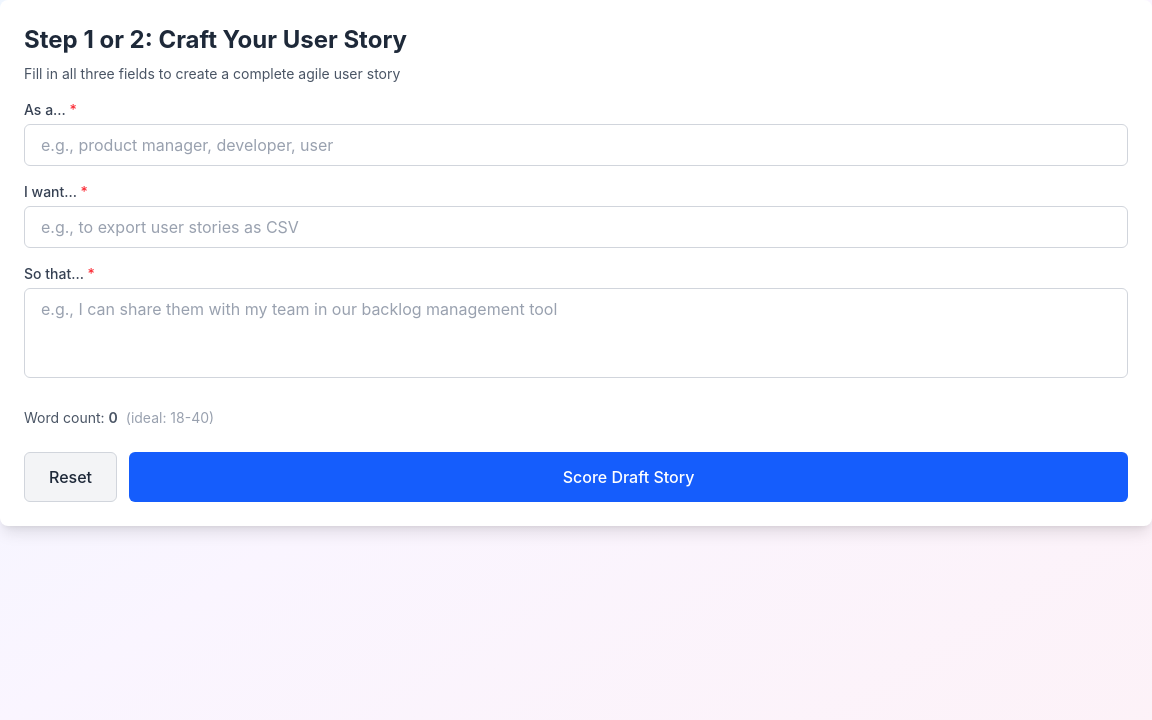
Test: StoryForm › should reset all fields when Reset button is clicked
The width and height of the screenshot is (1152, 720).
Type "developer" into the field labelled "As a... *".
click(576, 145); type("developer")  # box [24, 124, 1128, 166]
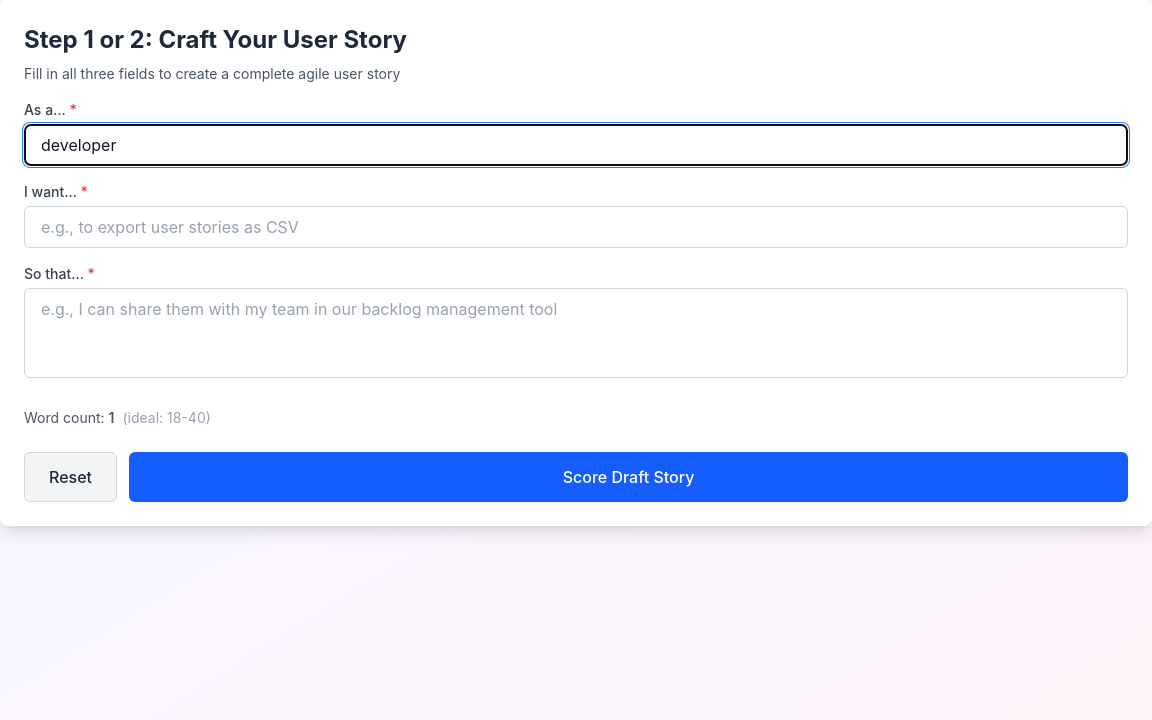
Type "to write code" into the field labelled "I want... *".
click(576, 227); type("to write code")  # box [24, 206, 1128, 248]
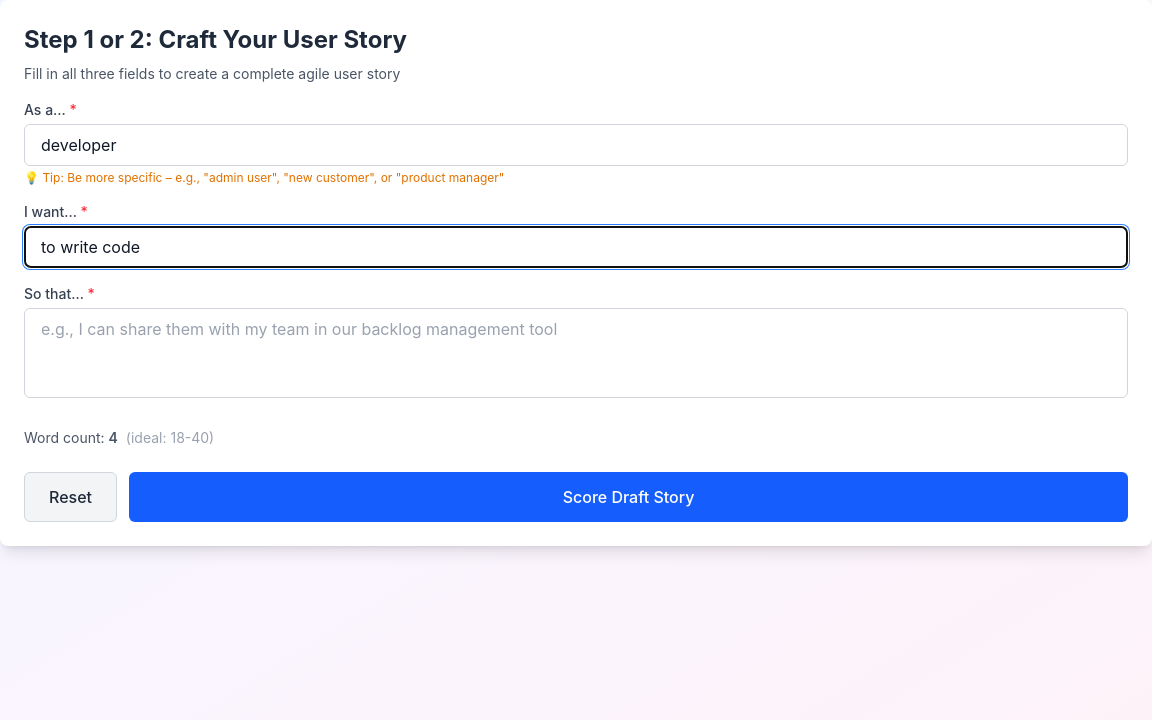
Type "to deliver value" into the text box labelled "So that... *".
click(576, 353); type("to deliver value")  # box [24, 308, 1128, 398]
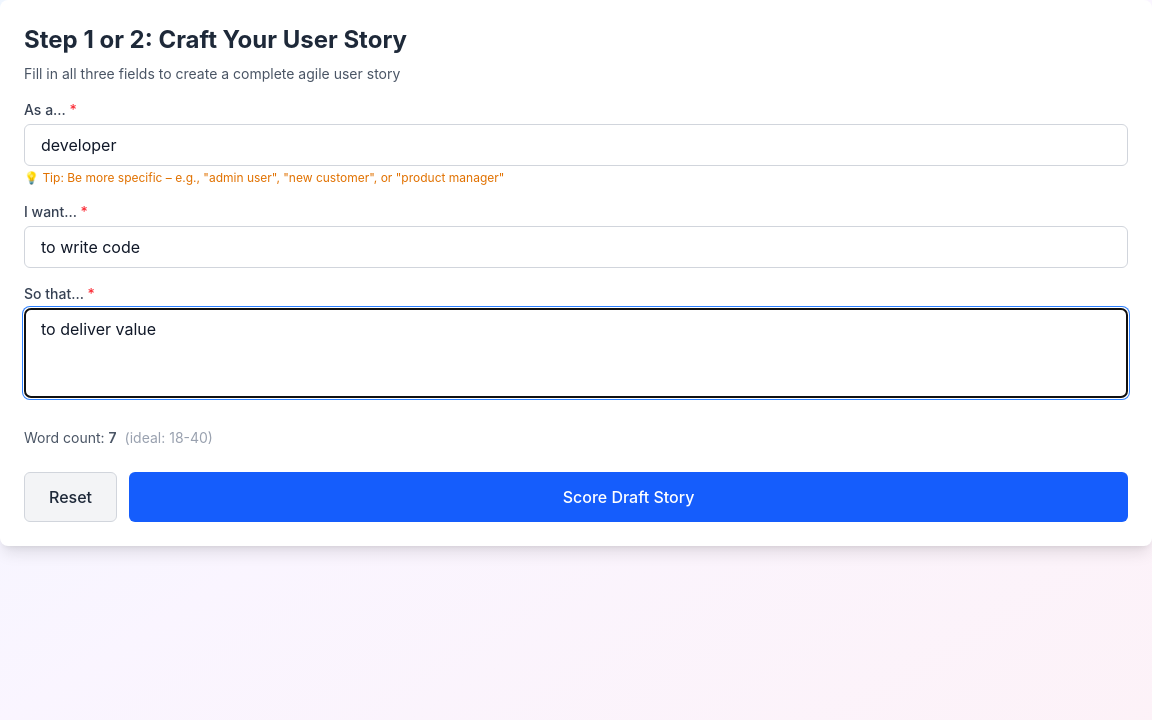
Press Tab
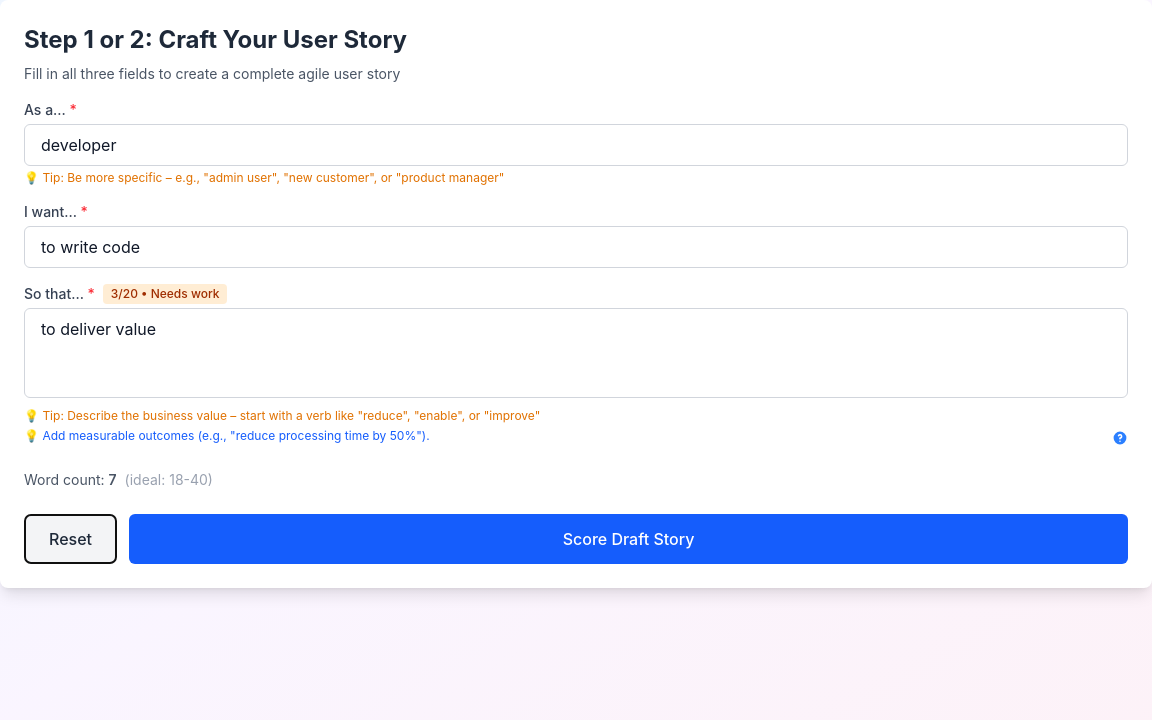
Check: the text "Tip:" is shown, box [24, 170, 504, 185]
Click the button "Reset".
click(70, 539)  # box [24, 514, 117, 564]
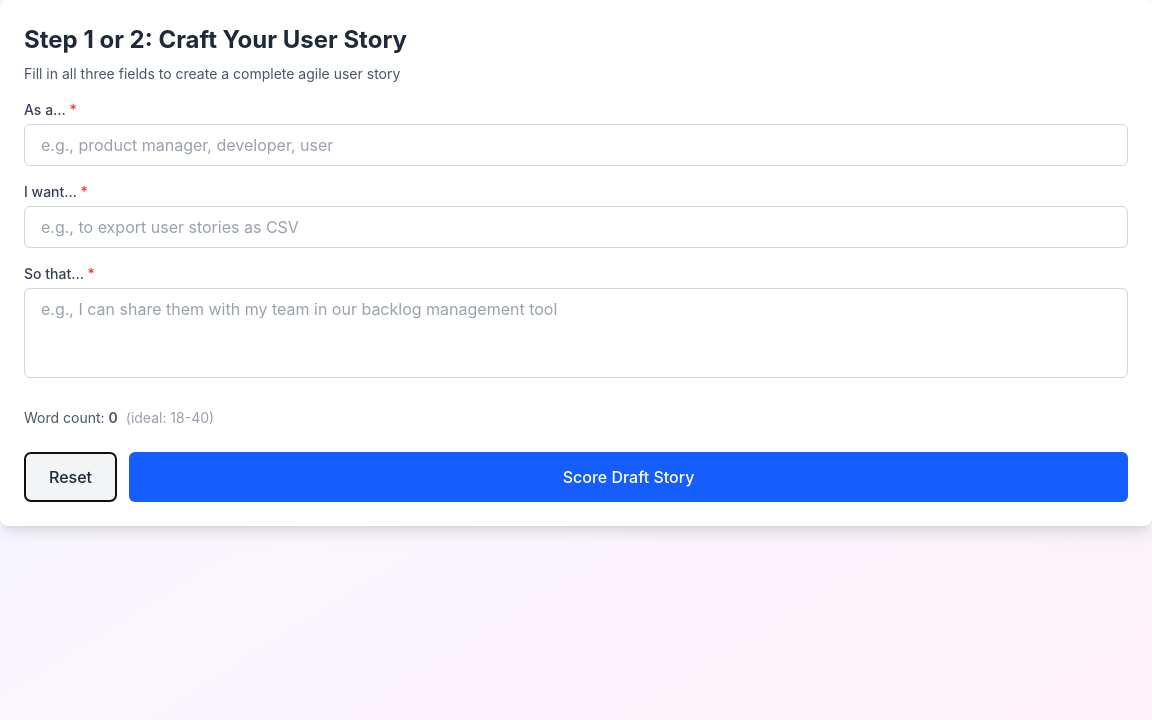
Check: the field labelled "As a... *" is empty, box [24, 124, 1128, 166]
Check: the field labelled "I want... *" is empty, box [24, 206, 1128, 248]
Check: the text box labelled "So that... *" is empty, box [24, 288, 1128, 378]
